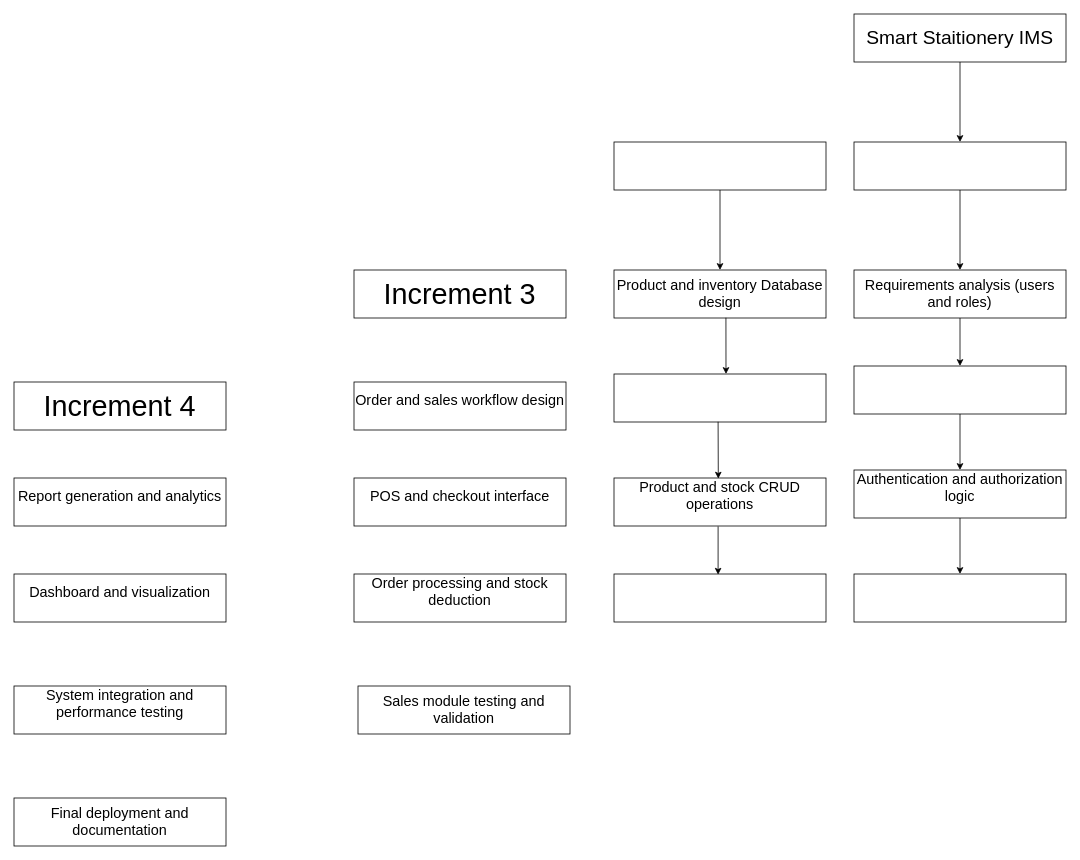
Image size: 1080x860. Some labels were removed from this diagram. Here are the shapes that lost their labels. From the top down, the centre of each, then its label:
the point at 719,165: Increment 2
the point at 959,165: Increment 1
the point at 719,397: Inventory management UI
the point at 959,389: Login and registration UI design
the point at 719,597: Inventory module testing and validation
the point at 959,597: User module testing and validation
